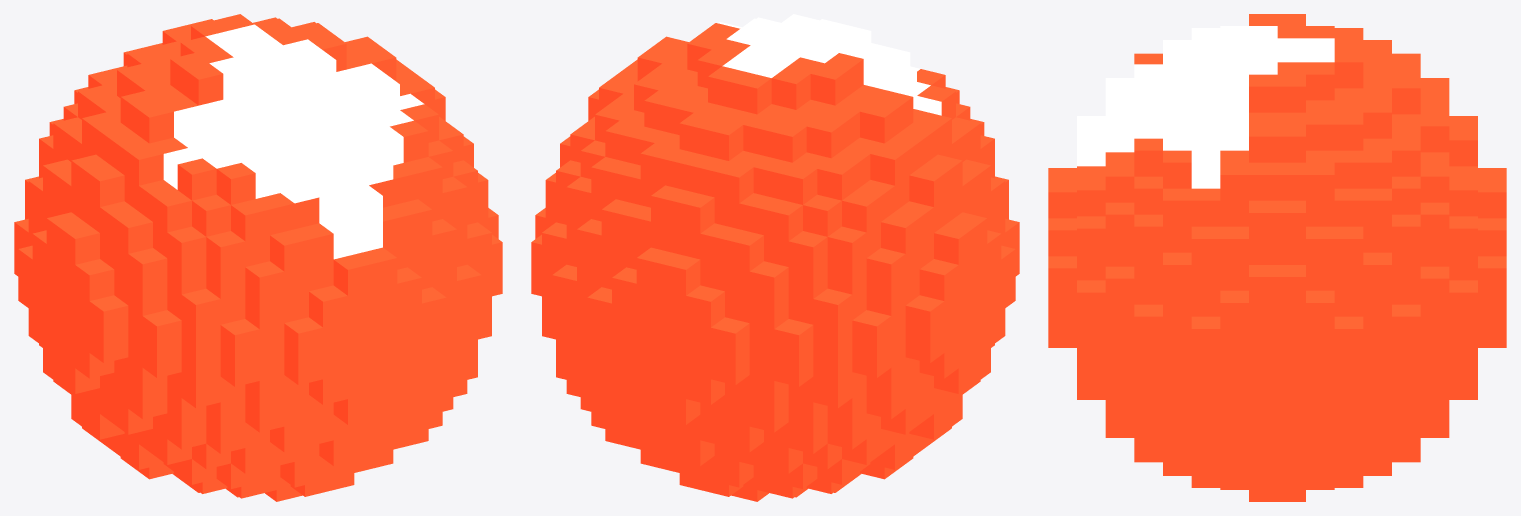
File: item_SUMMON_ELE.glb
3 views of the same model, side by side, from view 1: azimuth 30°, elevation 25°; view 2: azimuth 150°, elevation 25°; view 3: azimuth 270°, elevation 25° (orthographic).
Parts seen in each view (by area): view 1: item_SUMMON_ELE; view 2: item_SUMMON_ELE; view 3: item_SUMMON_ELE.
Boxes of the visible parts, x1,y1,x2,y2 form: item_SUMMON_ELE: [14, 14, 502, 501]; item_SUMMON_ELE: [531, 14, 1019, 501]; item_SUMMON_ELE: [1048, 14, 1506, 501].
Size of the model in its own units: 0.1818 by 0.1818 by 0.1818.
Materials: 1 (1 with a texture image).
